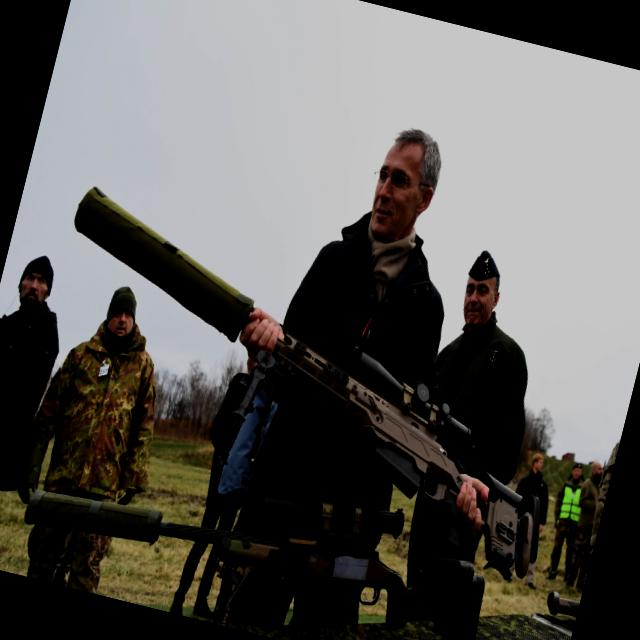rifle: (9, 161, 607, 581), (2, 417, 515, 640)
